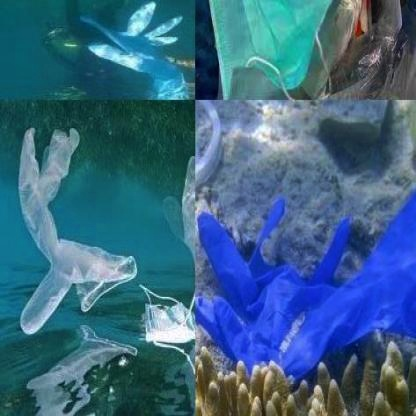Mask: (206, 0, 346, 99), (136, 282, 194, 350)
glove: (198, 187, 415, 367), (19, 124, 139, 333), (77, 1, 193, 99), (156, 133, 194, 315)
